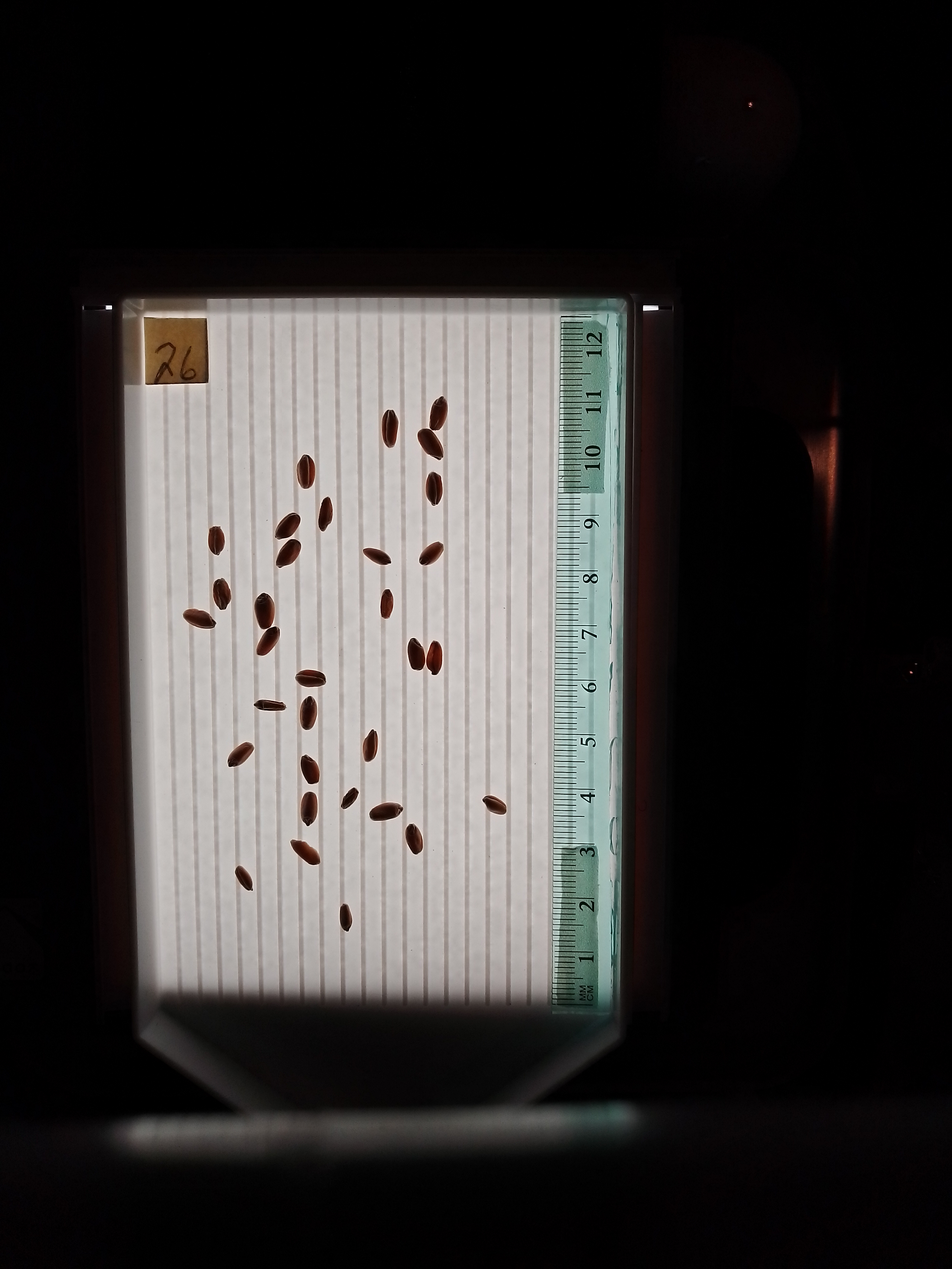seed mask: (417, 428, 444, 458), (291, 841, 320, 866), (254, 594, 275, 628), (276, 540, 301, 567), (183, 608, 215, 629), (425, 472, 444, 506), (257, 627, 280, 655), (275, 514, 300, 539), (382, 410, 399, 446), (228, 743, 253, 767), (297, 456, 315, 488), (371, 802, 401, 821), (300, 697, 317, 730), (426, 641, 443, 674), (430, 398, 447, 431), (420, 542, 444, 565), (301, 755, 320, 784), (301, 793, 318, 825), (213, 579, 231, 609), (318, 498, 334, 530), (296, 670, 326, 687), (408, 640, 425, 670), (362, 731, 378, 762), (208, 526, 225, 555), (406, 824, 423, 853), (364, 547, 390, 565), (484, 795, 506, 814), (235, 867, 253, 890), (380, 591, 394, 618), (255, 699, 285, 711), (340, 904, 353, 931), (342, 789, 358, 808)
